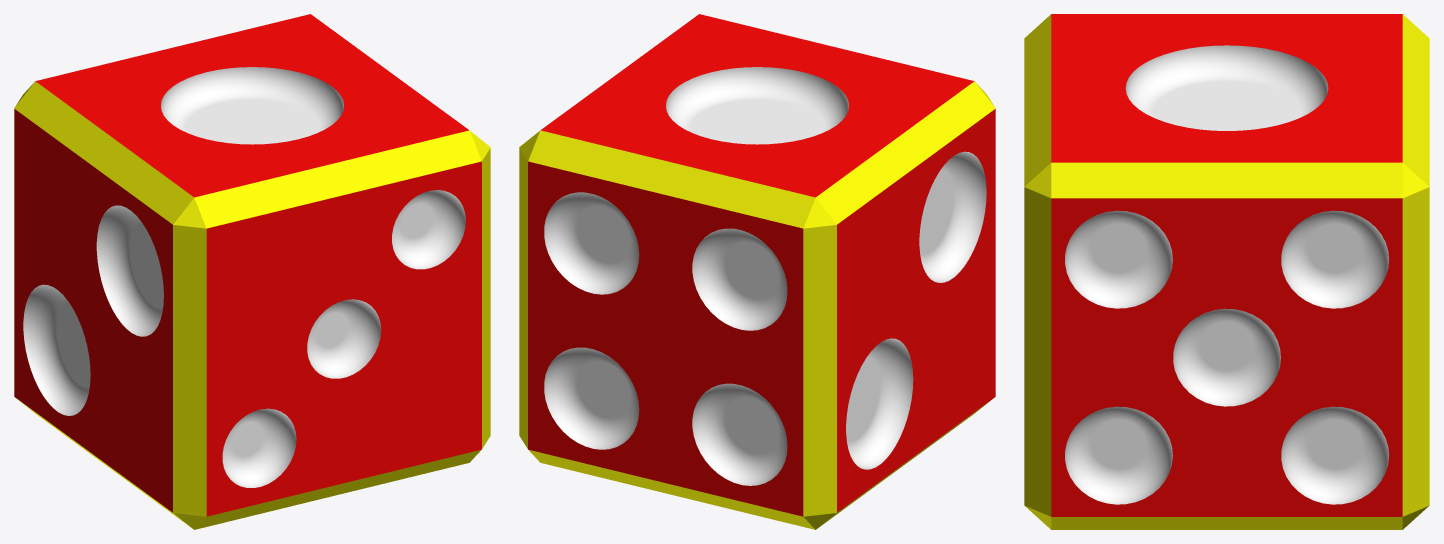
File: saikoro.glb
3 renders of one model, left to right at view 1: azimuth 30°, elevation 25°; view 2: azimuth 150°, elevation 25°; view 3: azimuth 270°, elevation 25°, orthographic. The views are drawn at different scales.
Parts seen in each view (by area): view 1: さいころ; view 2: さいころ; view 3: さいころ.
Part boxes in pixels (x1,y1,x2,y2): さいころ: (14, 14, 490, 529); さいころ: (519, 14, 995, 529); さいころ: (1024, 14, 1429, 529).
Size of the model in its own units: 0.03 by 0.03 by 0.03.
